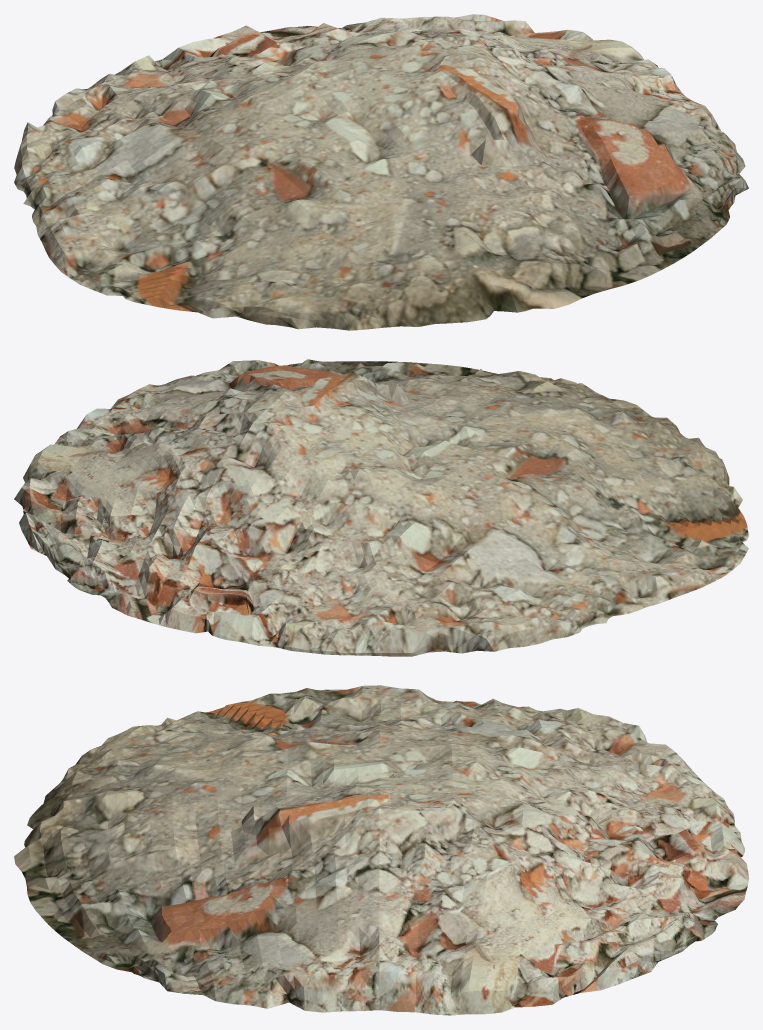
File: sweethome3d-scopia-rubble-heap.glb
3 views of the same model, one above another, from view 1: azimuth 30°, elevation 25°; view 2: azimuth 150°, elevation 25°; view 3: azimuth 270°, elevation 25° (orthographic). The views are drawn at different scales.
Parts seen in each view (by area): view 1: Plane; view 2: Plane; view 3: Plane.
Boxes of the visible parts, bbox=[...] form: Plane: bbox=[14, 14, 748, 330]; Plane: bbox=[14, 359, 748, 656]; Plane: bbox=[14, 685, 748, 1015].
Size of the model in its own units: 95.99 by 13.72 by 91.48.
Materials: 1 (1 with a texture image).
